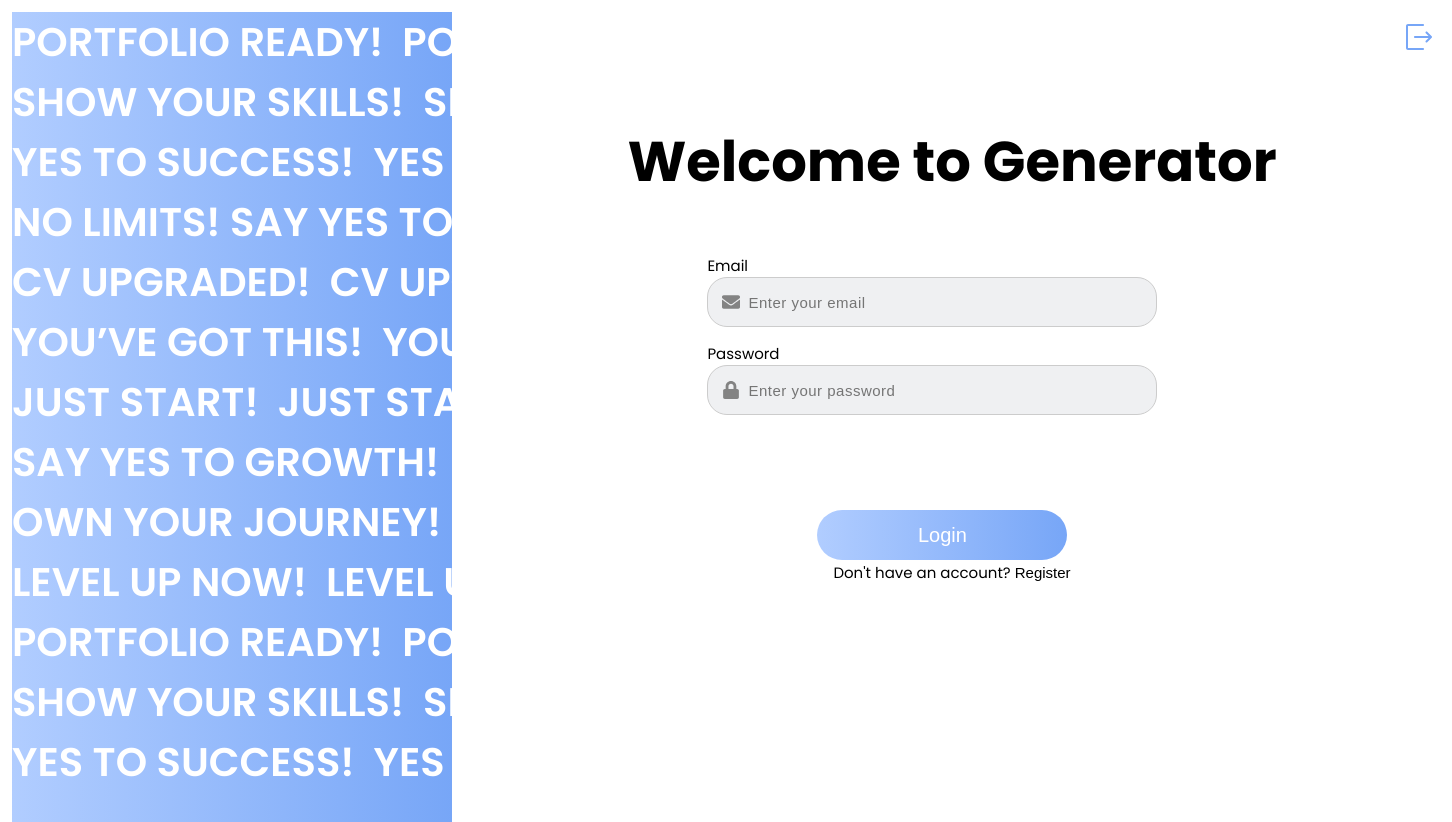
Test: Компонент Login › отображение ошибки при сбое на сервере
Type "test@example.com" into the field with placeholder "Enter your email".
click(932, 302); type("test@example.com")  # box x1=707 y1=277 x2=1157 y2=327
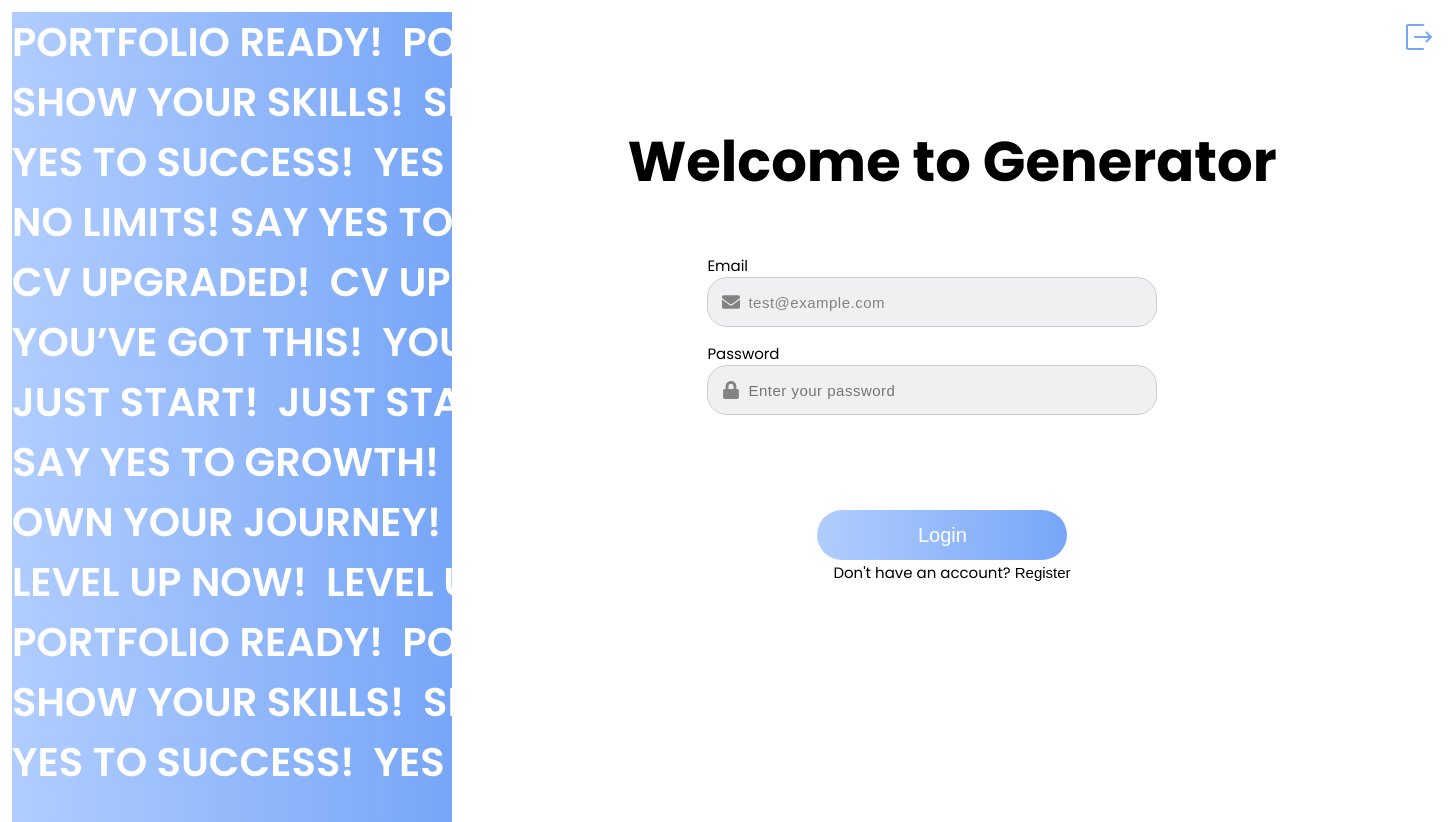
Type "password123" into the password field with placeholder "Enter your password".
click(932, 390); type("password123")  # box x1=707 y1=365 x2=1157 y2=415
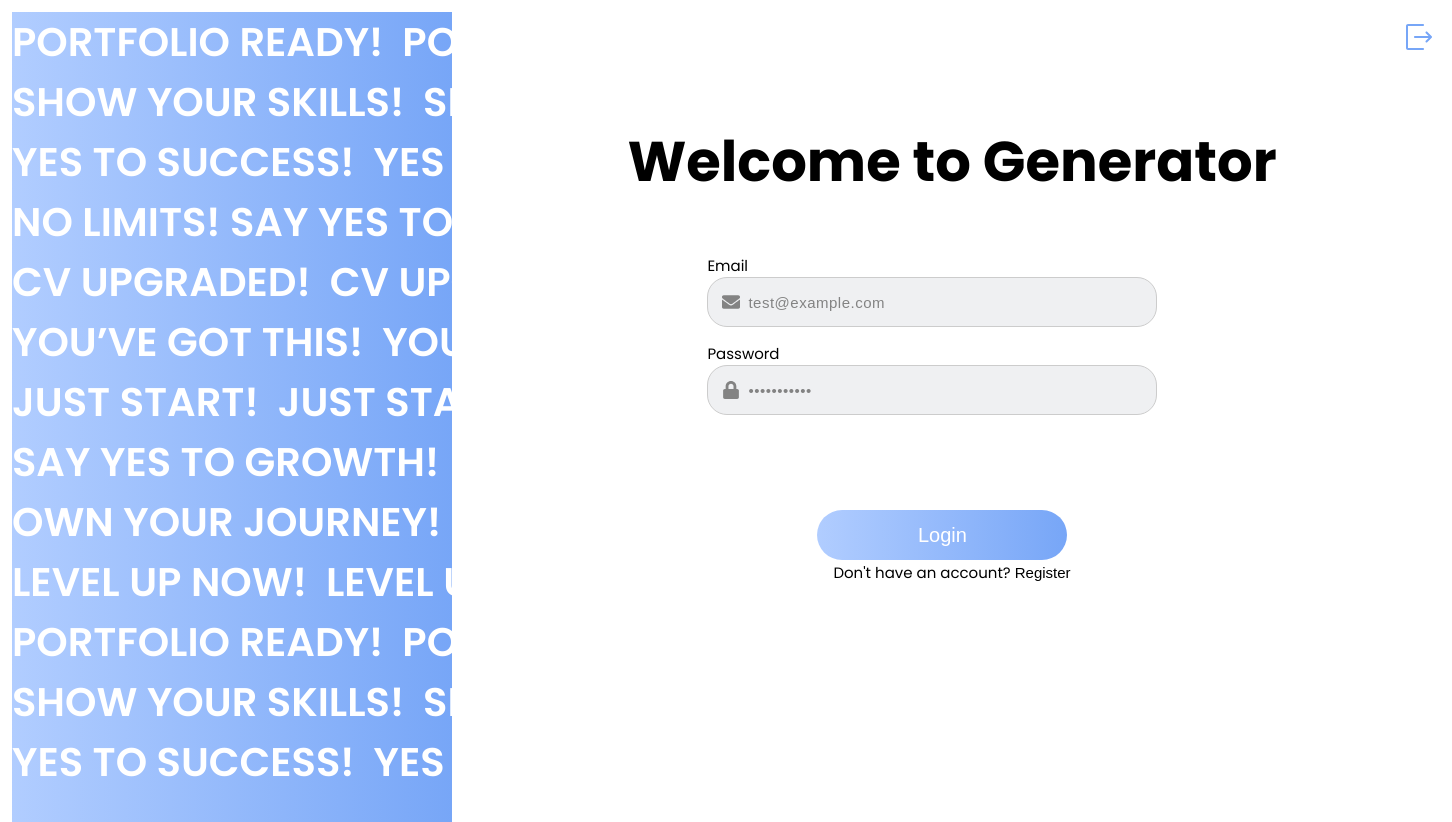
Click the button "Login".
click(942, 535)  # box x1=817 y1=510 x2=1067 y2=560
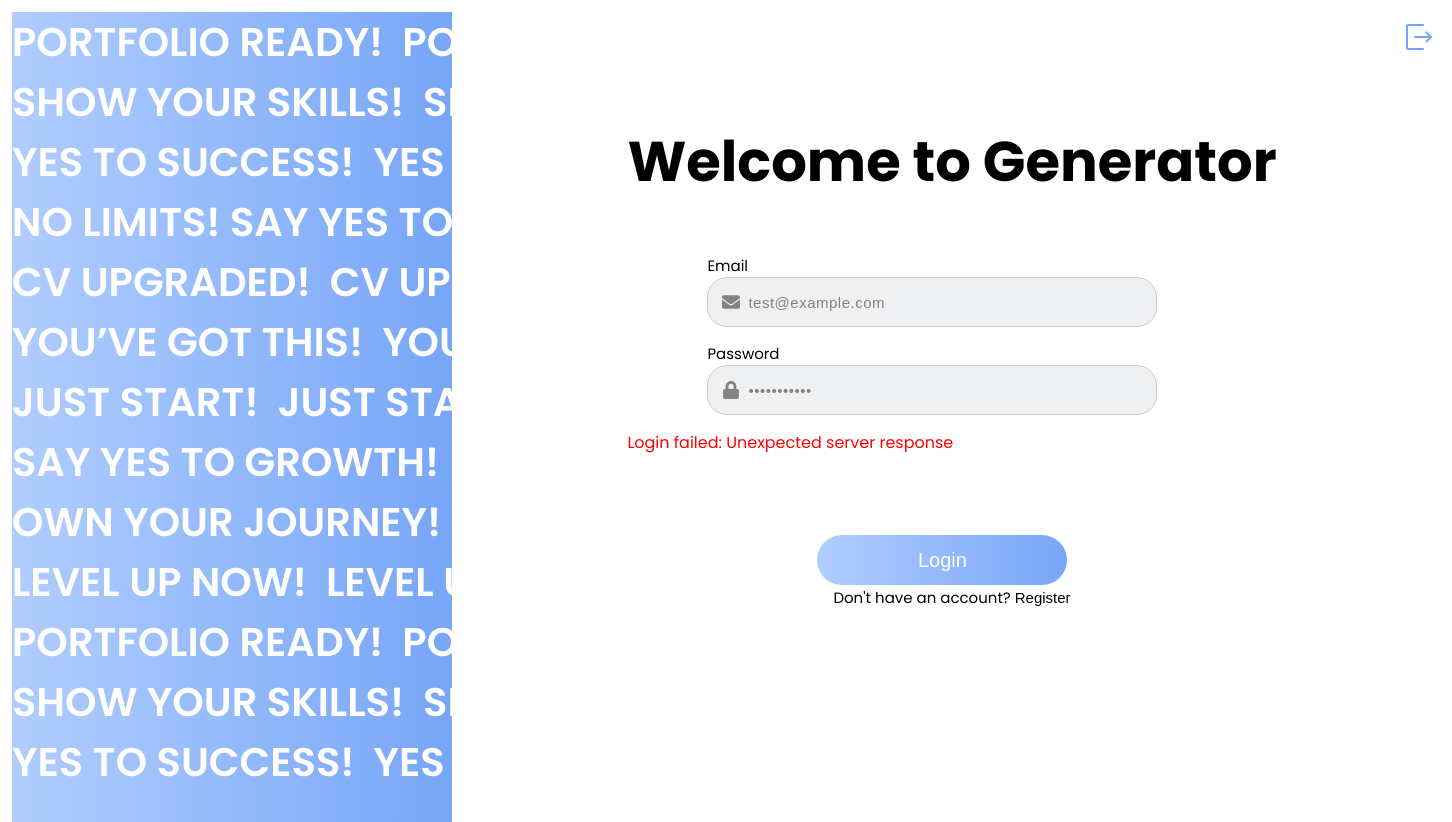
Check: the text "Login failed: Unexpected server response" is shown, box x1=627 y1=431 x2=953 y2=454
